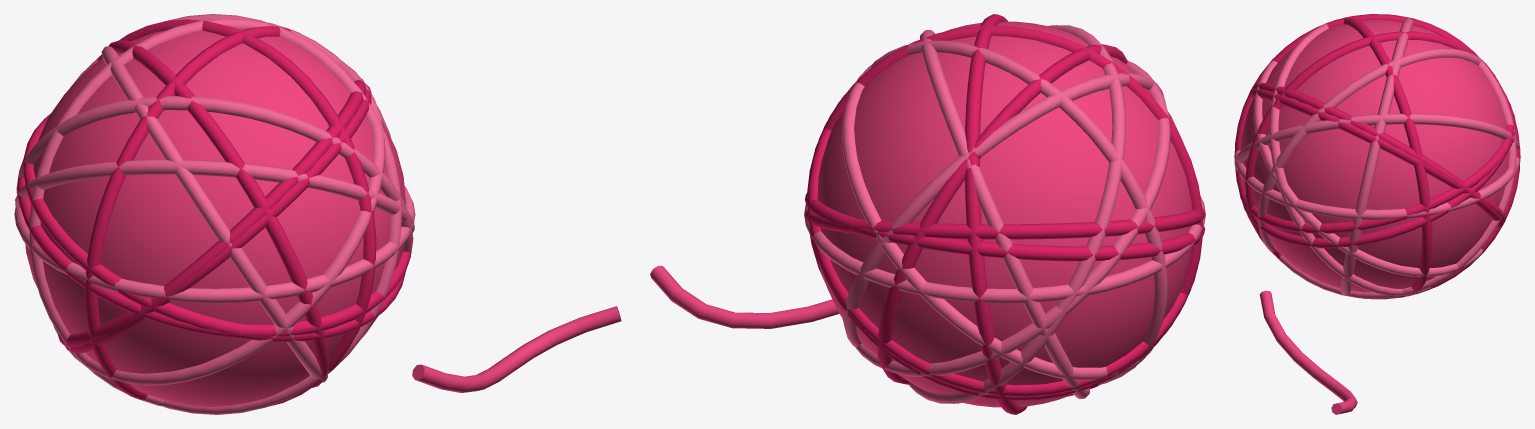
Rendered from yarn.glb.
3 views of the same model, side by side, from view 1: azimuth 30°, elevation 25°; view 2: azimuth 150°, elevation 25°; view 3: azimuth 270°, elevation 25° (orthographic). The views are drawn at different scales.
Parts seen in each view (by area): view 1: yarn; view 2: yarn; view 3: yarn.
Boxes of the visible parts, x1=… form: yarn: x1=14, y1=14, x2=621, y2=414; yarn: x1=650, y1=14, x2=1205, y2=414; yarn: x1=1234, y1=14, x2=1520, y2=414.
Bounding box in the file's own units: 2.65 × 1.75 × 1.66.
